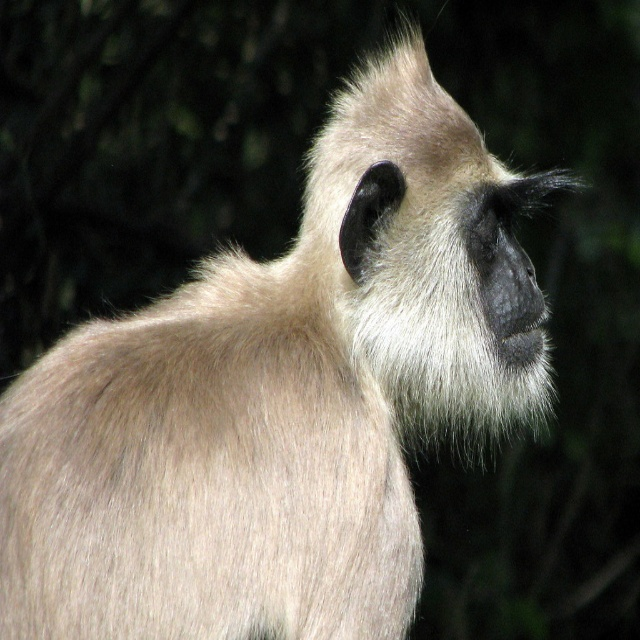Monkey: (0, 0, 595, 640)
